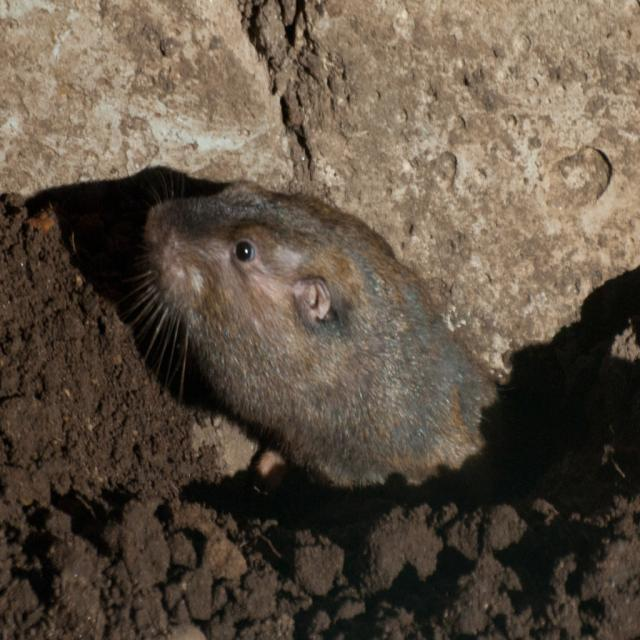rat: (137, 176, 506, 489)
